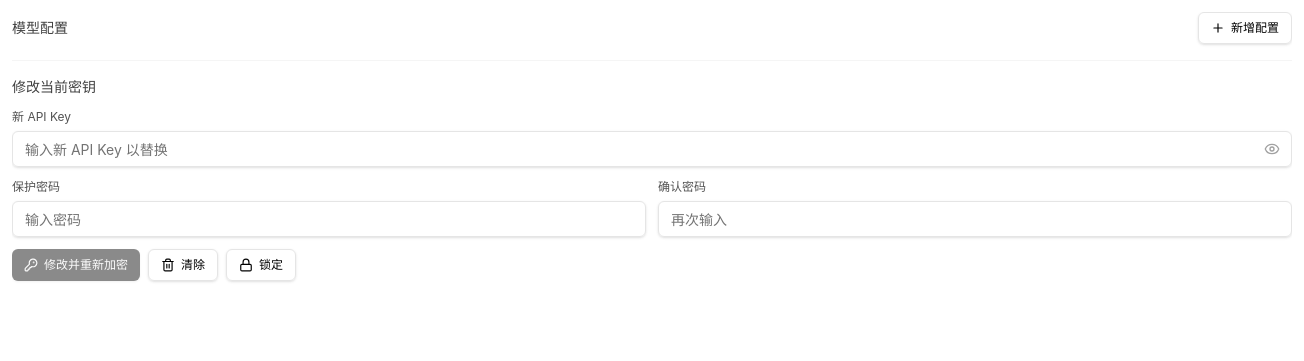
Test: APISettings - Mode C: unlocked with API key › clears API key when clear button clicked
Click the button "清除".
click(183, 265)  # box [148,249,218,281]
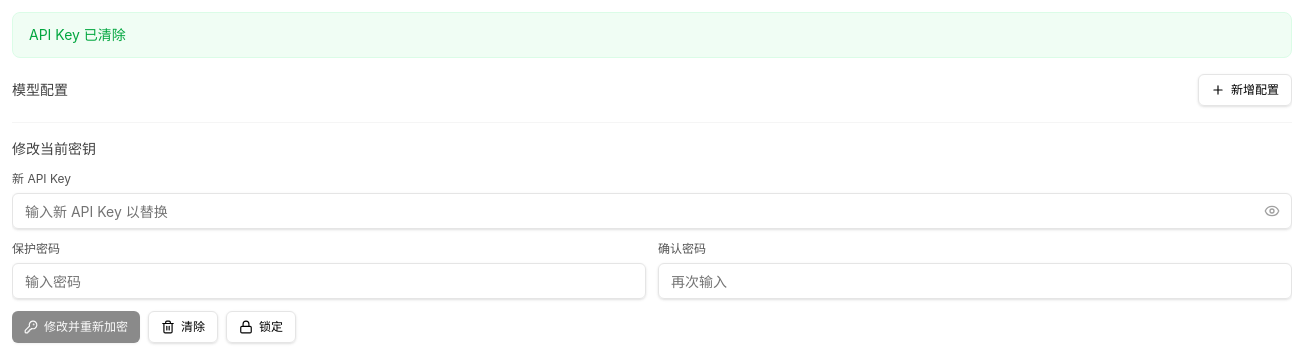
Check: the text "API Key 已清除" is shown, box [12,12,1292,58]
